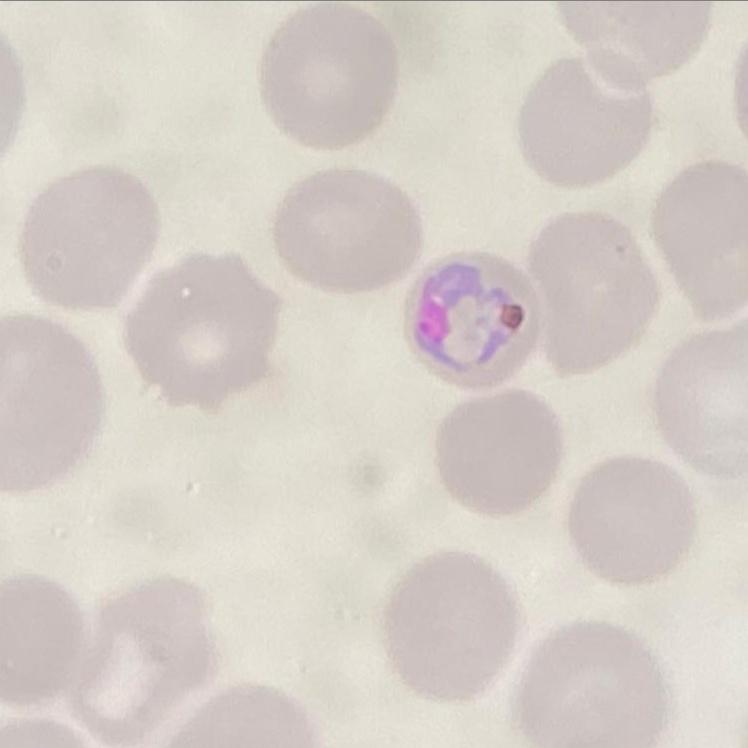Infected: (404, 251, 534, 392)
Uninfected: (126, 251, 269, 410), (382, 547, 521, 710), (80, 575, 206, 743), (256, 3, 398, 146), (530, 207, 650, 376), (514, 619, 670, 748), (0, 317, 101, 500), (518, 51, 655, 184), (18, 171, 153, 304), (270, 171, 417, 288), (568, 455, 693, 587), (438, 391, 557, 515), (654, 159, 748, 314), (650, 327, 748, 474), (562, 0, 710, 97)
